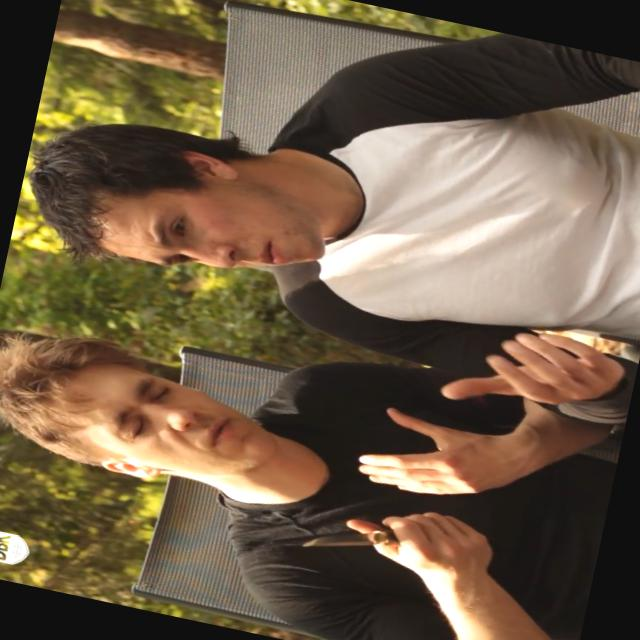knife: (280, 478, 481, 590)
